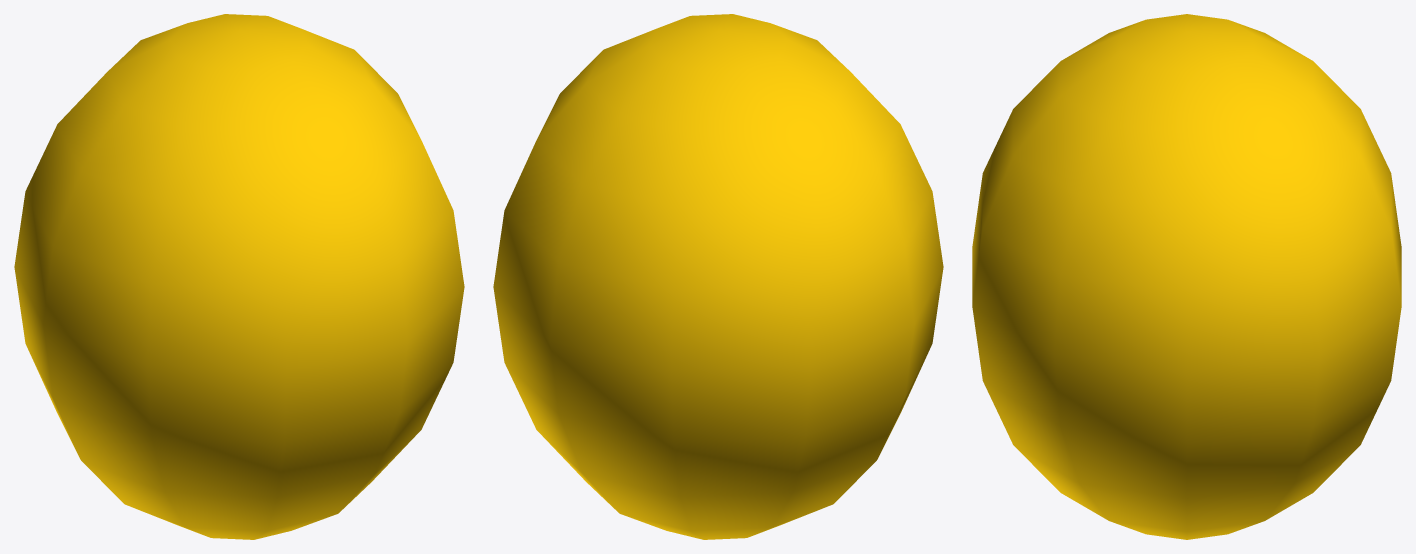
The model's file is Trovoraptor_stage1.obj.
The picture shows the model from 3 angles, left to right: view 1: azimuth 30°, elevation 25°; view 2: azimuth 150°, elevation 25°; view 3: azimuth 270°, elevation 25°; orthographic projection.
Bounding box in the file's own units: 1.6 × 1.92 × 1.52.
